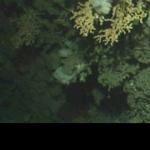alive: (4, 10, 140, 115)
